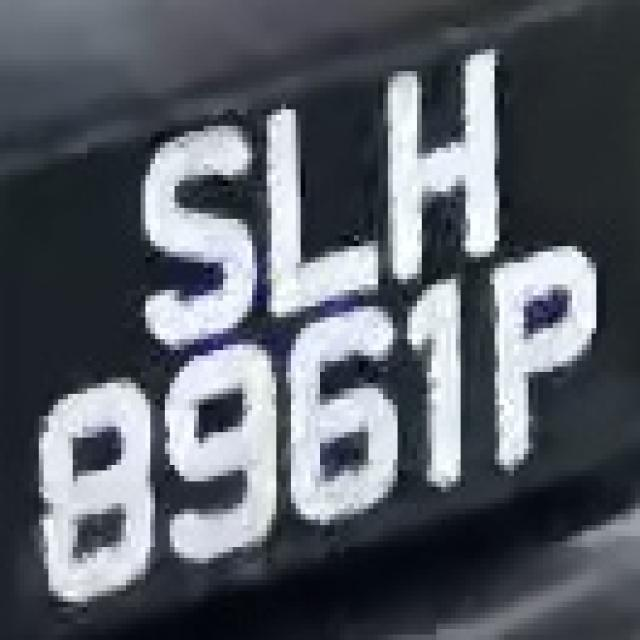1: (412, 252, 475, 514)
6: (276, 322, 412, 530)
8: (19, 356, 165, 590)
9: (165, 345, 296, 569)
H: (373, 44, 514, 284)
L: (252, 104, 383, 312)
P: (480, 246, 621, 487)
S: (121, 120, 252, 328)
